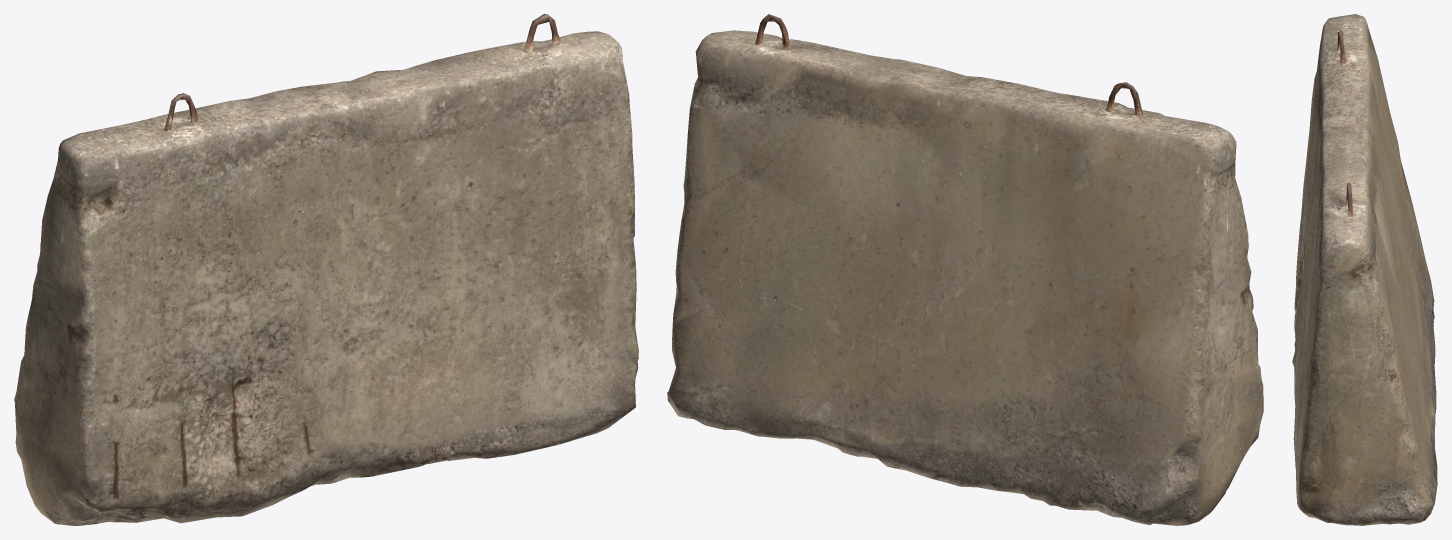
Rendered from road_barrier_b.glb.
3 renders of one model, left to right at view 1: azimuth 30°, elevation 25°; view 2: azimuth 150°, elevation 25°; view 3: azimuth 270°, elevation 25°, orthographic. The views are drawn at different scales.
Visible parts, largest first — view 1: concrete_road_barrier_02; view 2: concrete_road_barrier_02; view 3: concrete_road_barrier_02.
Part boxes in pixels (x1,y1,x2,y2): concrete_road_barrier_02: (14, 14, 638, 525); concrete_road_barrier_02: (667, 14, 1263, 525); concrete_road_barrier_02: (1292, 14, 1437, 525).
Size of the model in its own units: 1.56 by 1.11 by 0.4418.
1 material, 1 textured.
